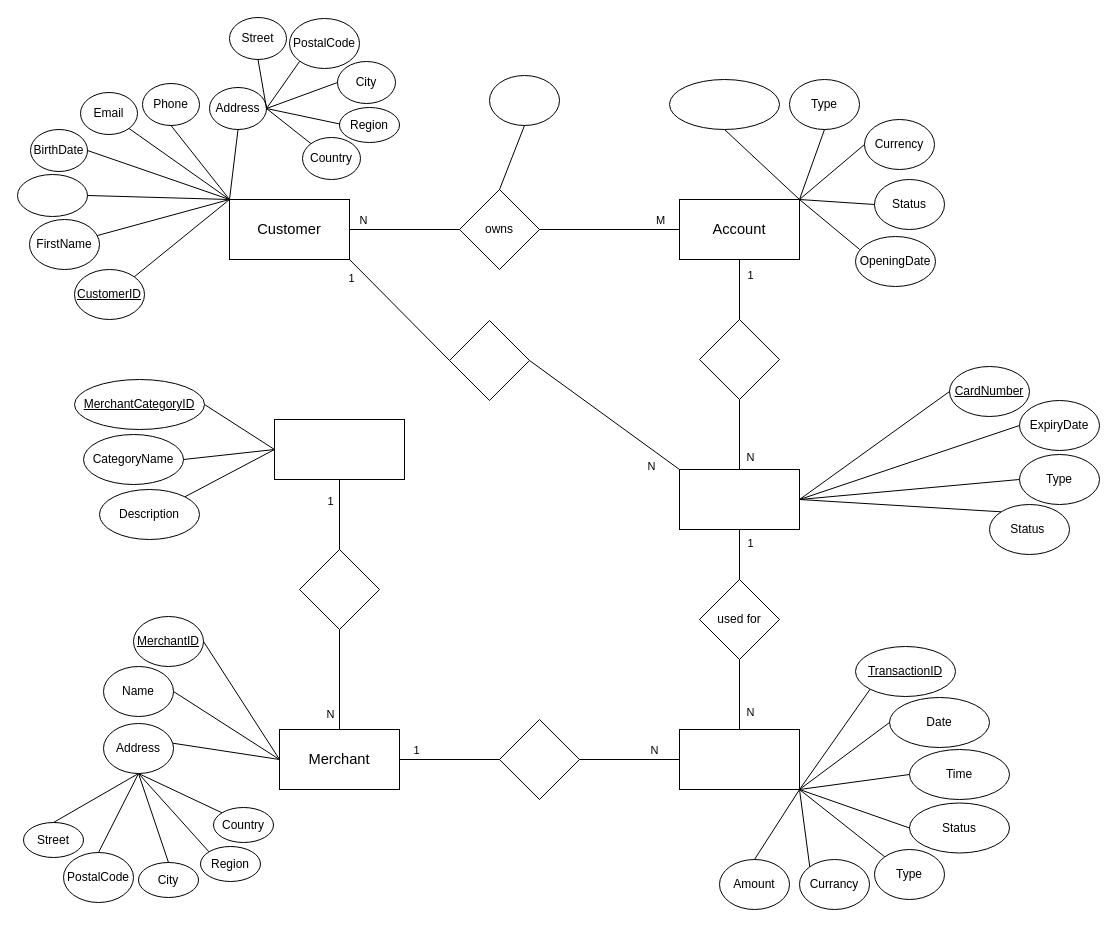
This 1117x927 diagram has some shape labels left out. Here are the shapes that lost their labels. From the top down, the centre of each, then its label:
At (x=524, y=100): "Role".
At (x=724, y=104): "AccountNumber".
At (x=52, y=195): "LastName".
At (x=489, y=360): "holds".
At (x=739, y=359): "linked to".
At (x=339, y=449): "MerchantCategory".
At (x=739, y=499): "Card".
At (x=339, y=589): "belongs to".
At (x=539, y=759): "made at".
At (x=739, y=759): "Transaction".
